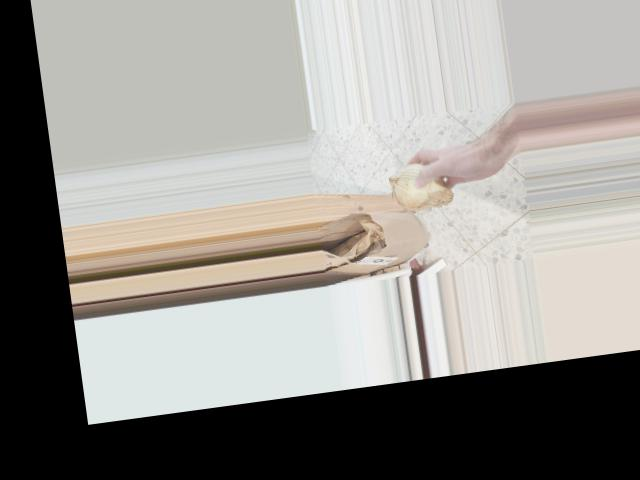onion: (384, 156, 457, 218)
